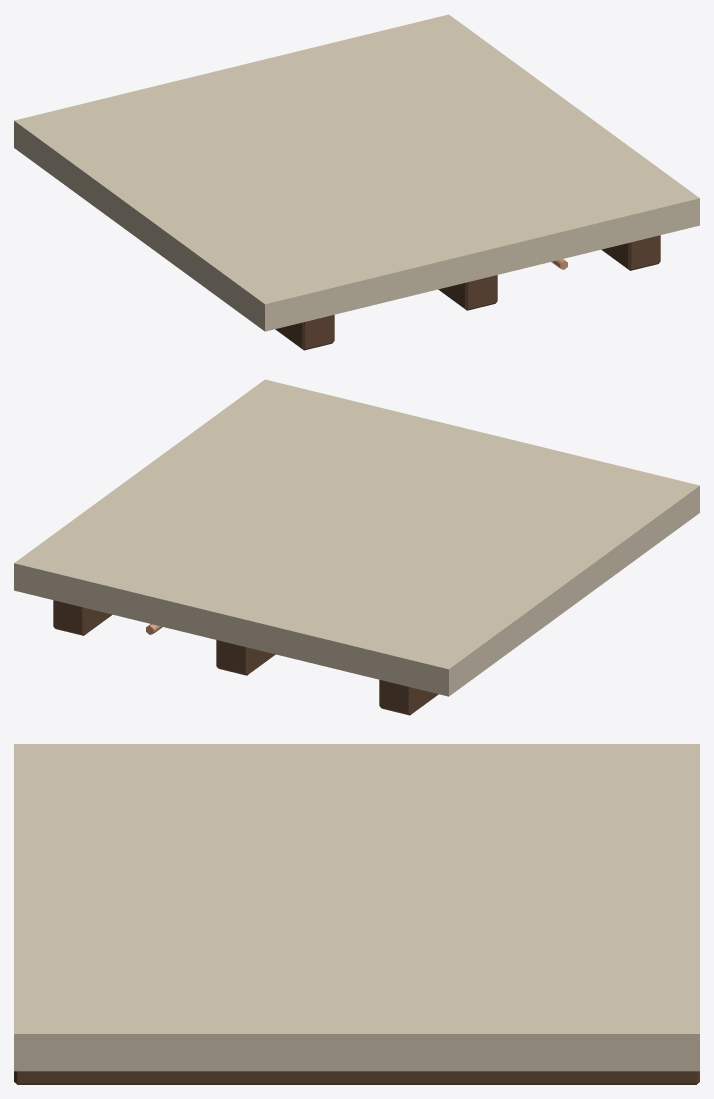
Rendered from ceil_hm_beam.glb.
3 views of the same model, one above another, from view 1: azimuth 30°, elevation 25°; view 2: azimuth 150°, elevation 25°; view 3: azimuth 270°, elevation 25° (orthographic). The views are drawn at different scales.
Visible parts, largest first — view 1: ceil_hm_beam; view 2: ceil_hm_beam; view 3: ceil_hm_beam.
Part boxes in pixels (x1,y1,x2,y2): ceil_hm_beam: (14, 14, 699, 350); ceil_hm_beam: (14, 379, 699, 715); ceil_hm_beam: (14, 744, 699, 1084).
Bounding box in the file's own units: 4 × 0.5 × 4.
